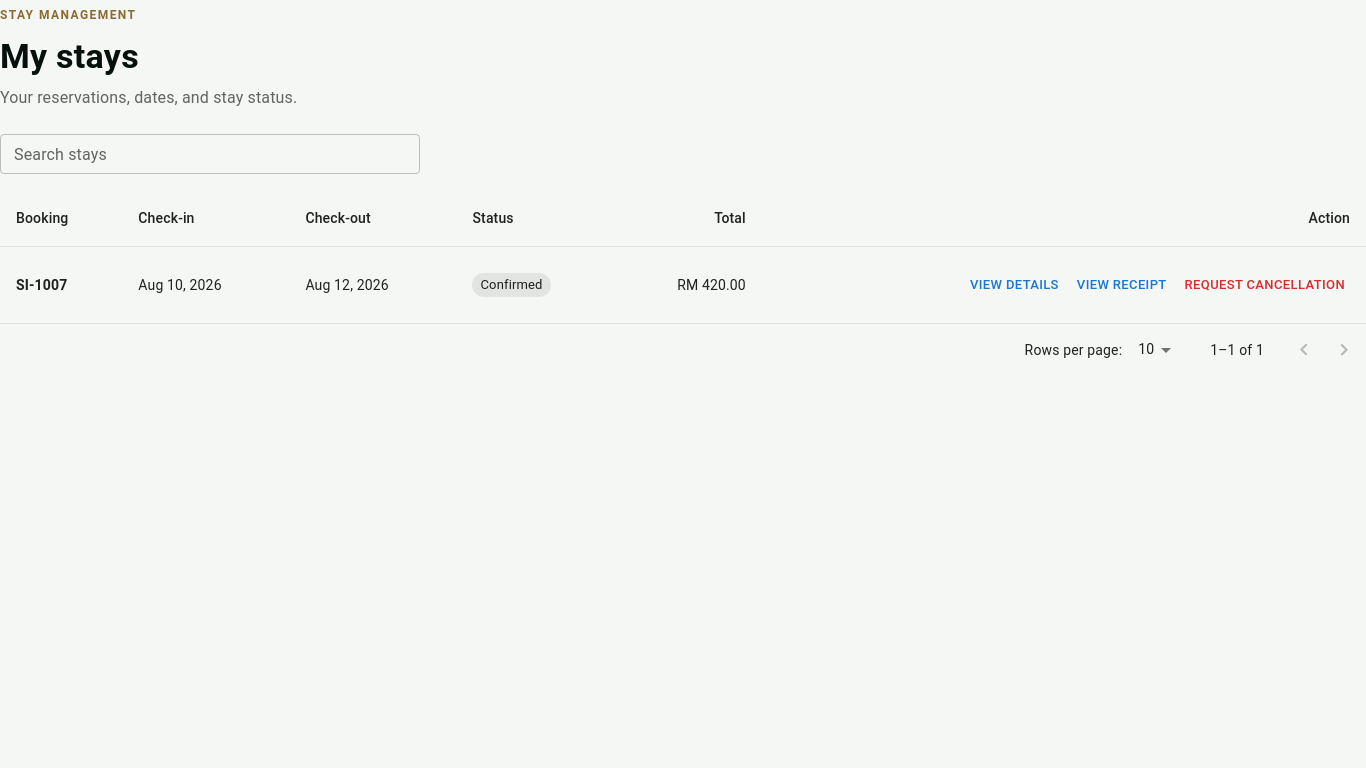
it: BookingsSection cancellation › closes after submitting a cancellation request and announces the staff review
Click the button "Request cancellation". click: [1265, 285]
box: [1180, 263, 1350, 307]
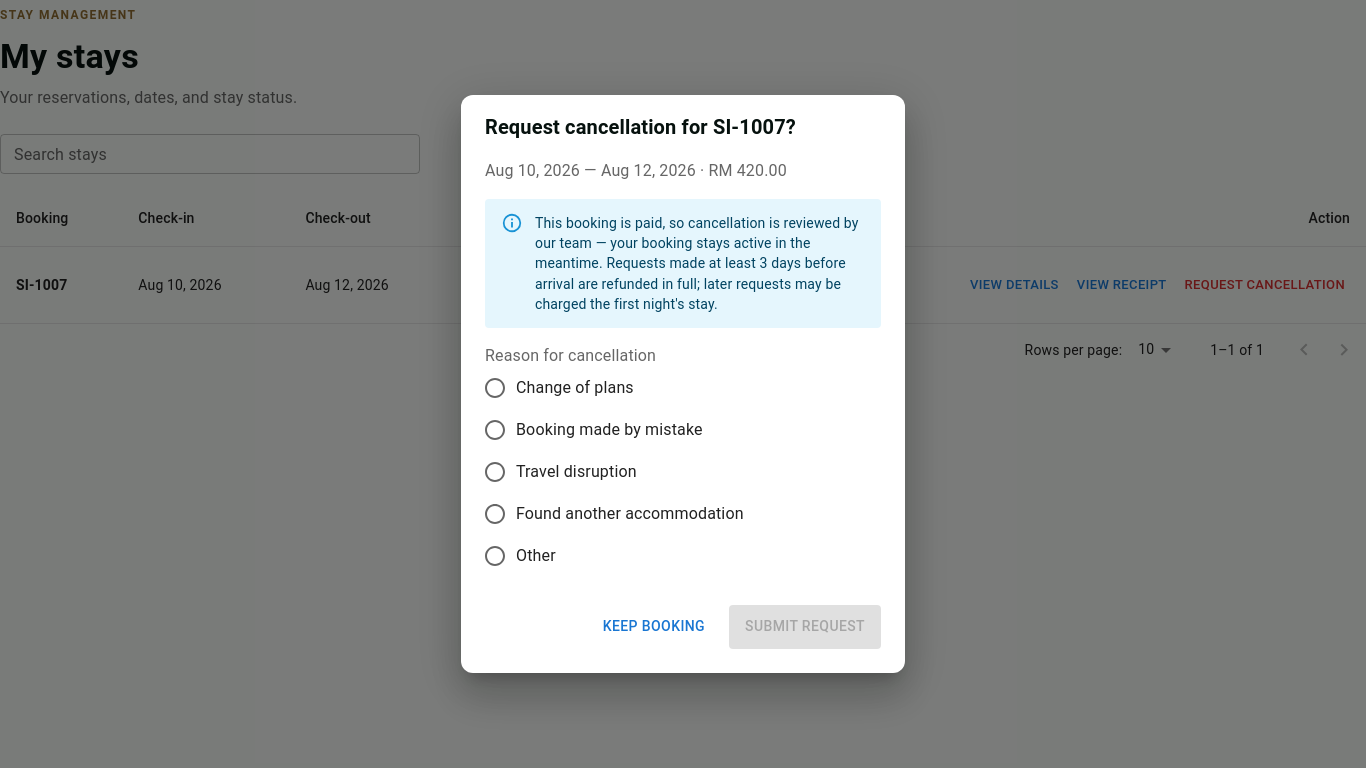
Result: the heading "Request cancellation for SI-1007?" is shown at [485, 116, 796, 140]
Click the radio button labelled "Change of plans". click: [558, 388]
box: [483, 376, 634, 400]
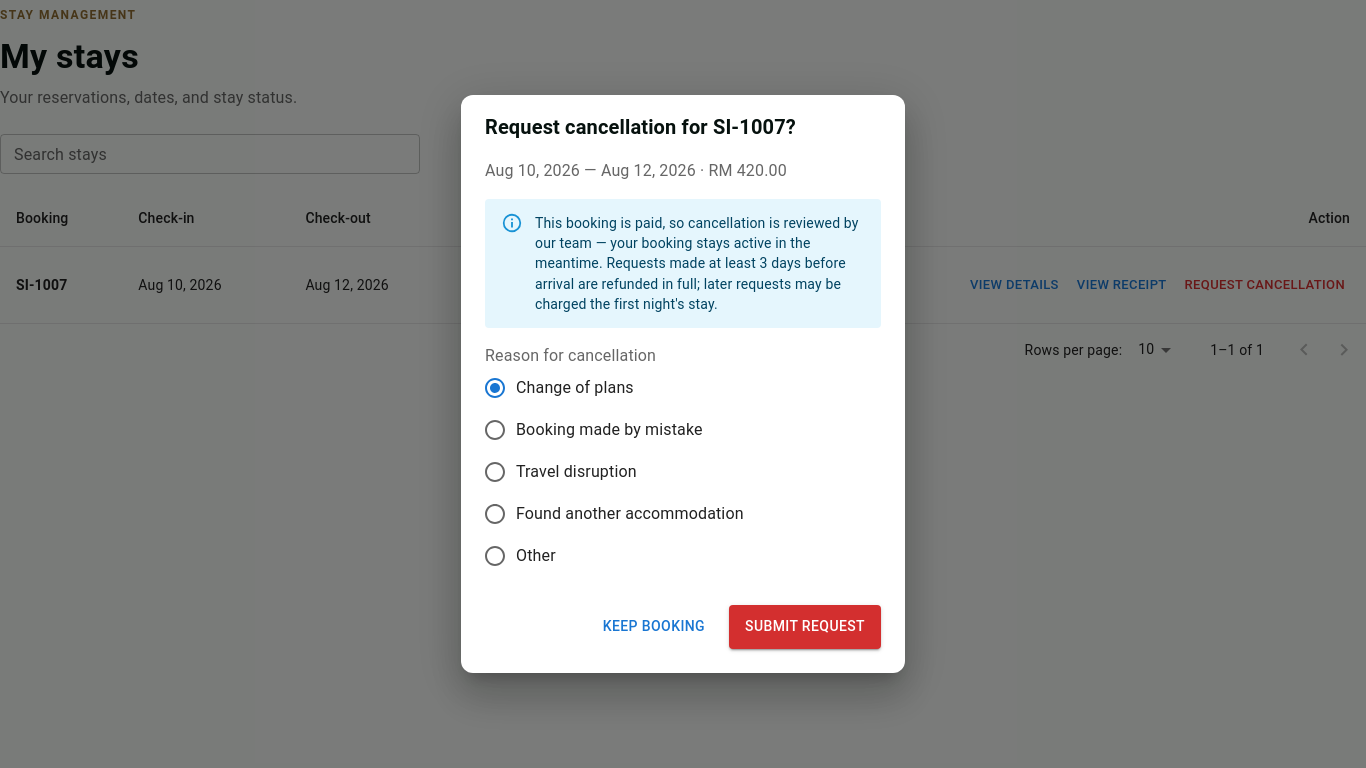
Click the button "Submit request". click: [805, 626]
box: [729, 604, 881, 648]
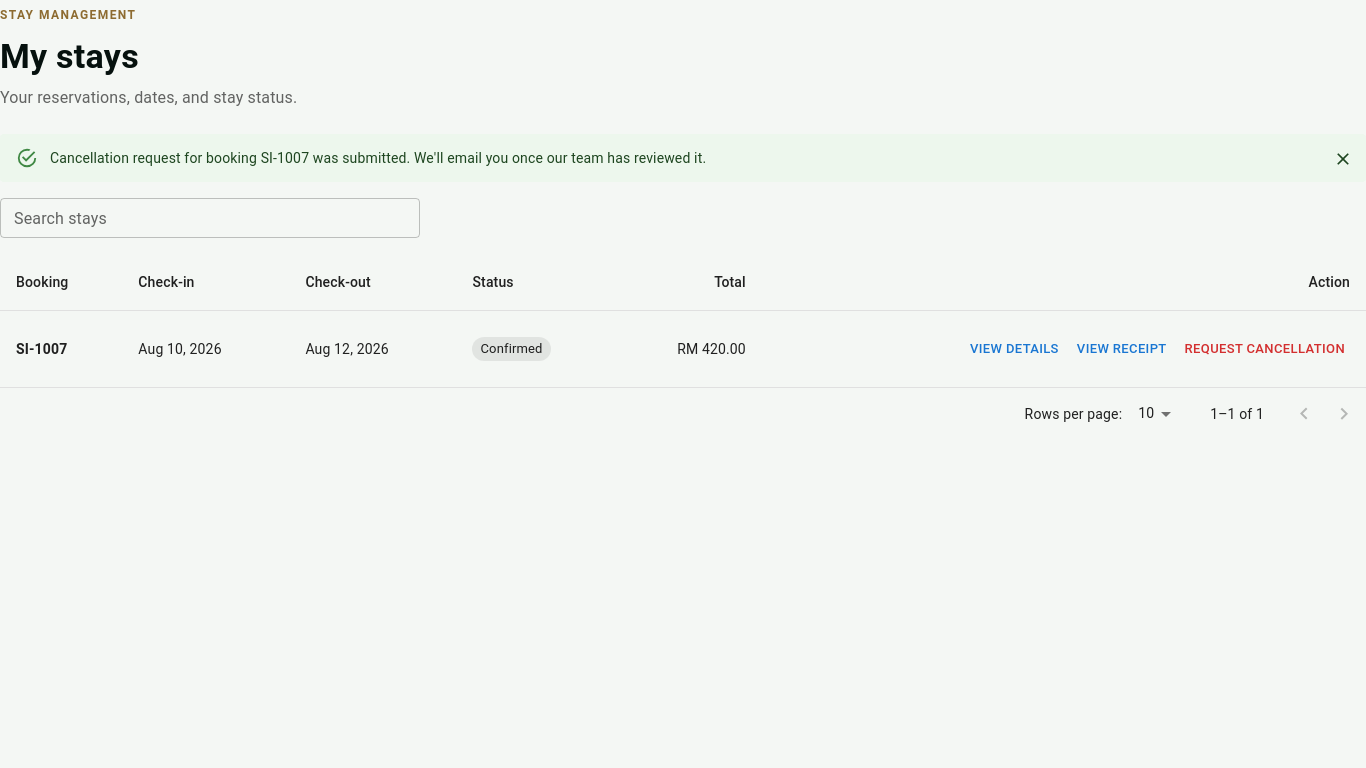
Result: the dialog is gone
Result: the text "Cancellation request for booking SI-1007 was submitted. We'll email you once our team has reviewed it." is shown at [50, 150, 706, 166]
